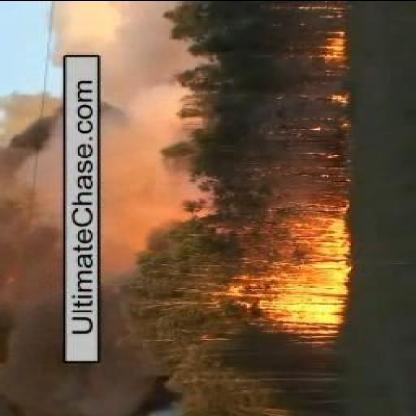-: (5, 92, 55, 289)
foggia-v2-map80-epoch100 - v1 4323: (273, 262, 346, 317)
